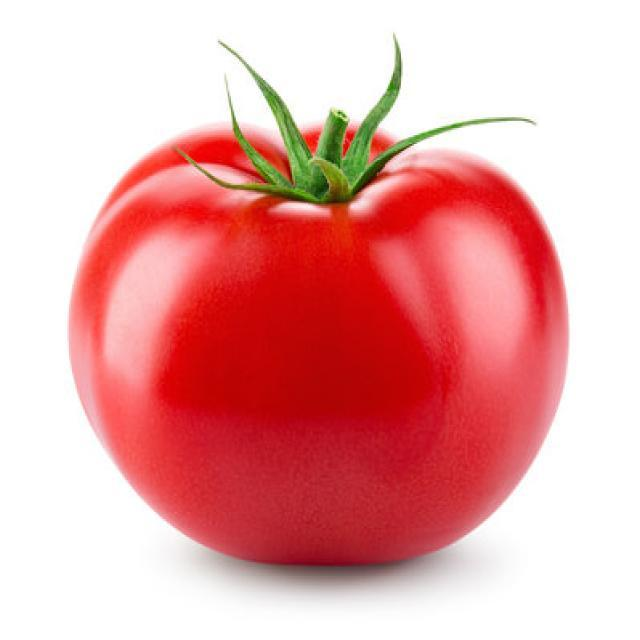kirmizi: (78, 84, 578, 594)
